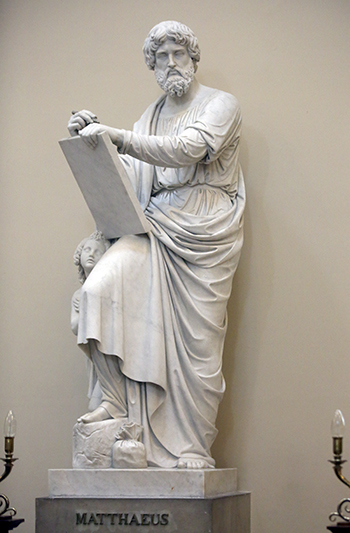person-like: (65, 16, 253, 471), (68, 229, 115, 411)
